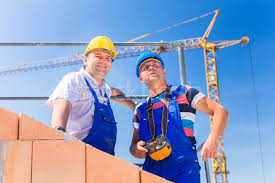helmet: (130, 49, 163, 67), (88, 38, 116, 54)
